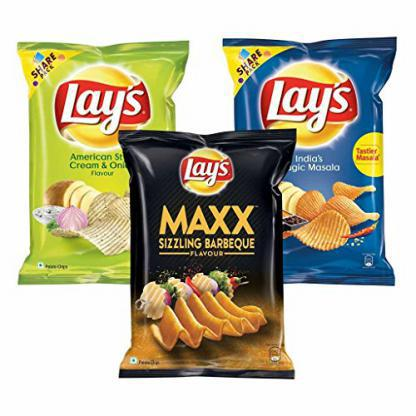cream_and_onion: (16, 42, 127, 281)
indian_magic_masala: (272, 39, 395, 285)
maxx_sizzling_barbeque: (123, 131, 285, 373)
